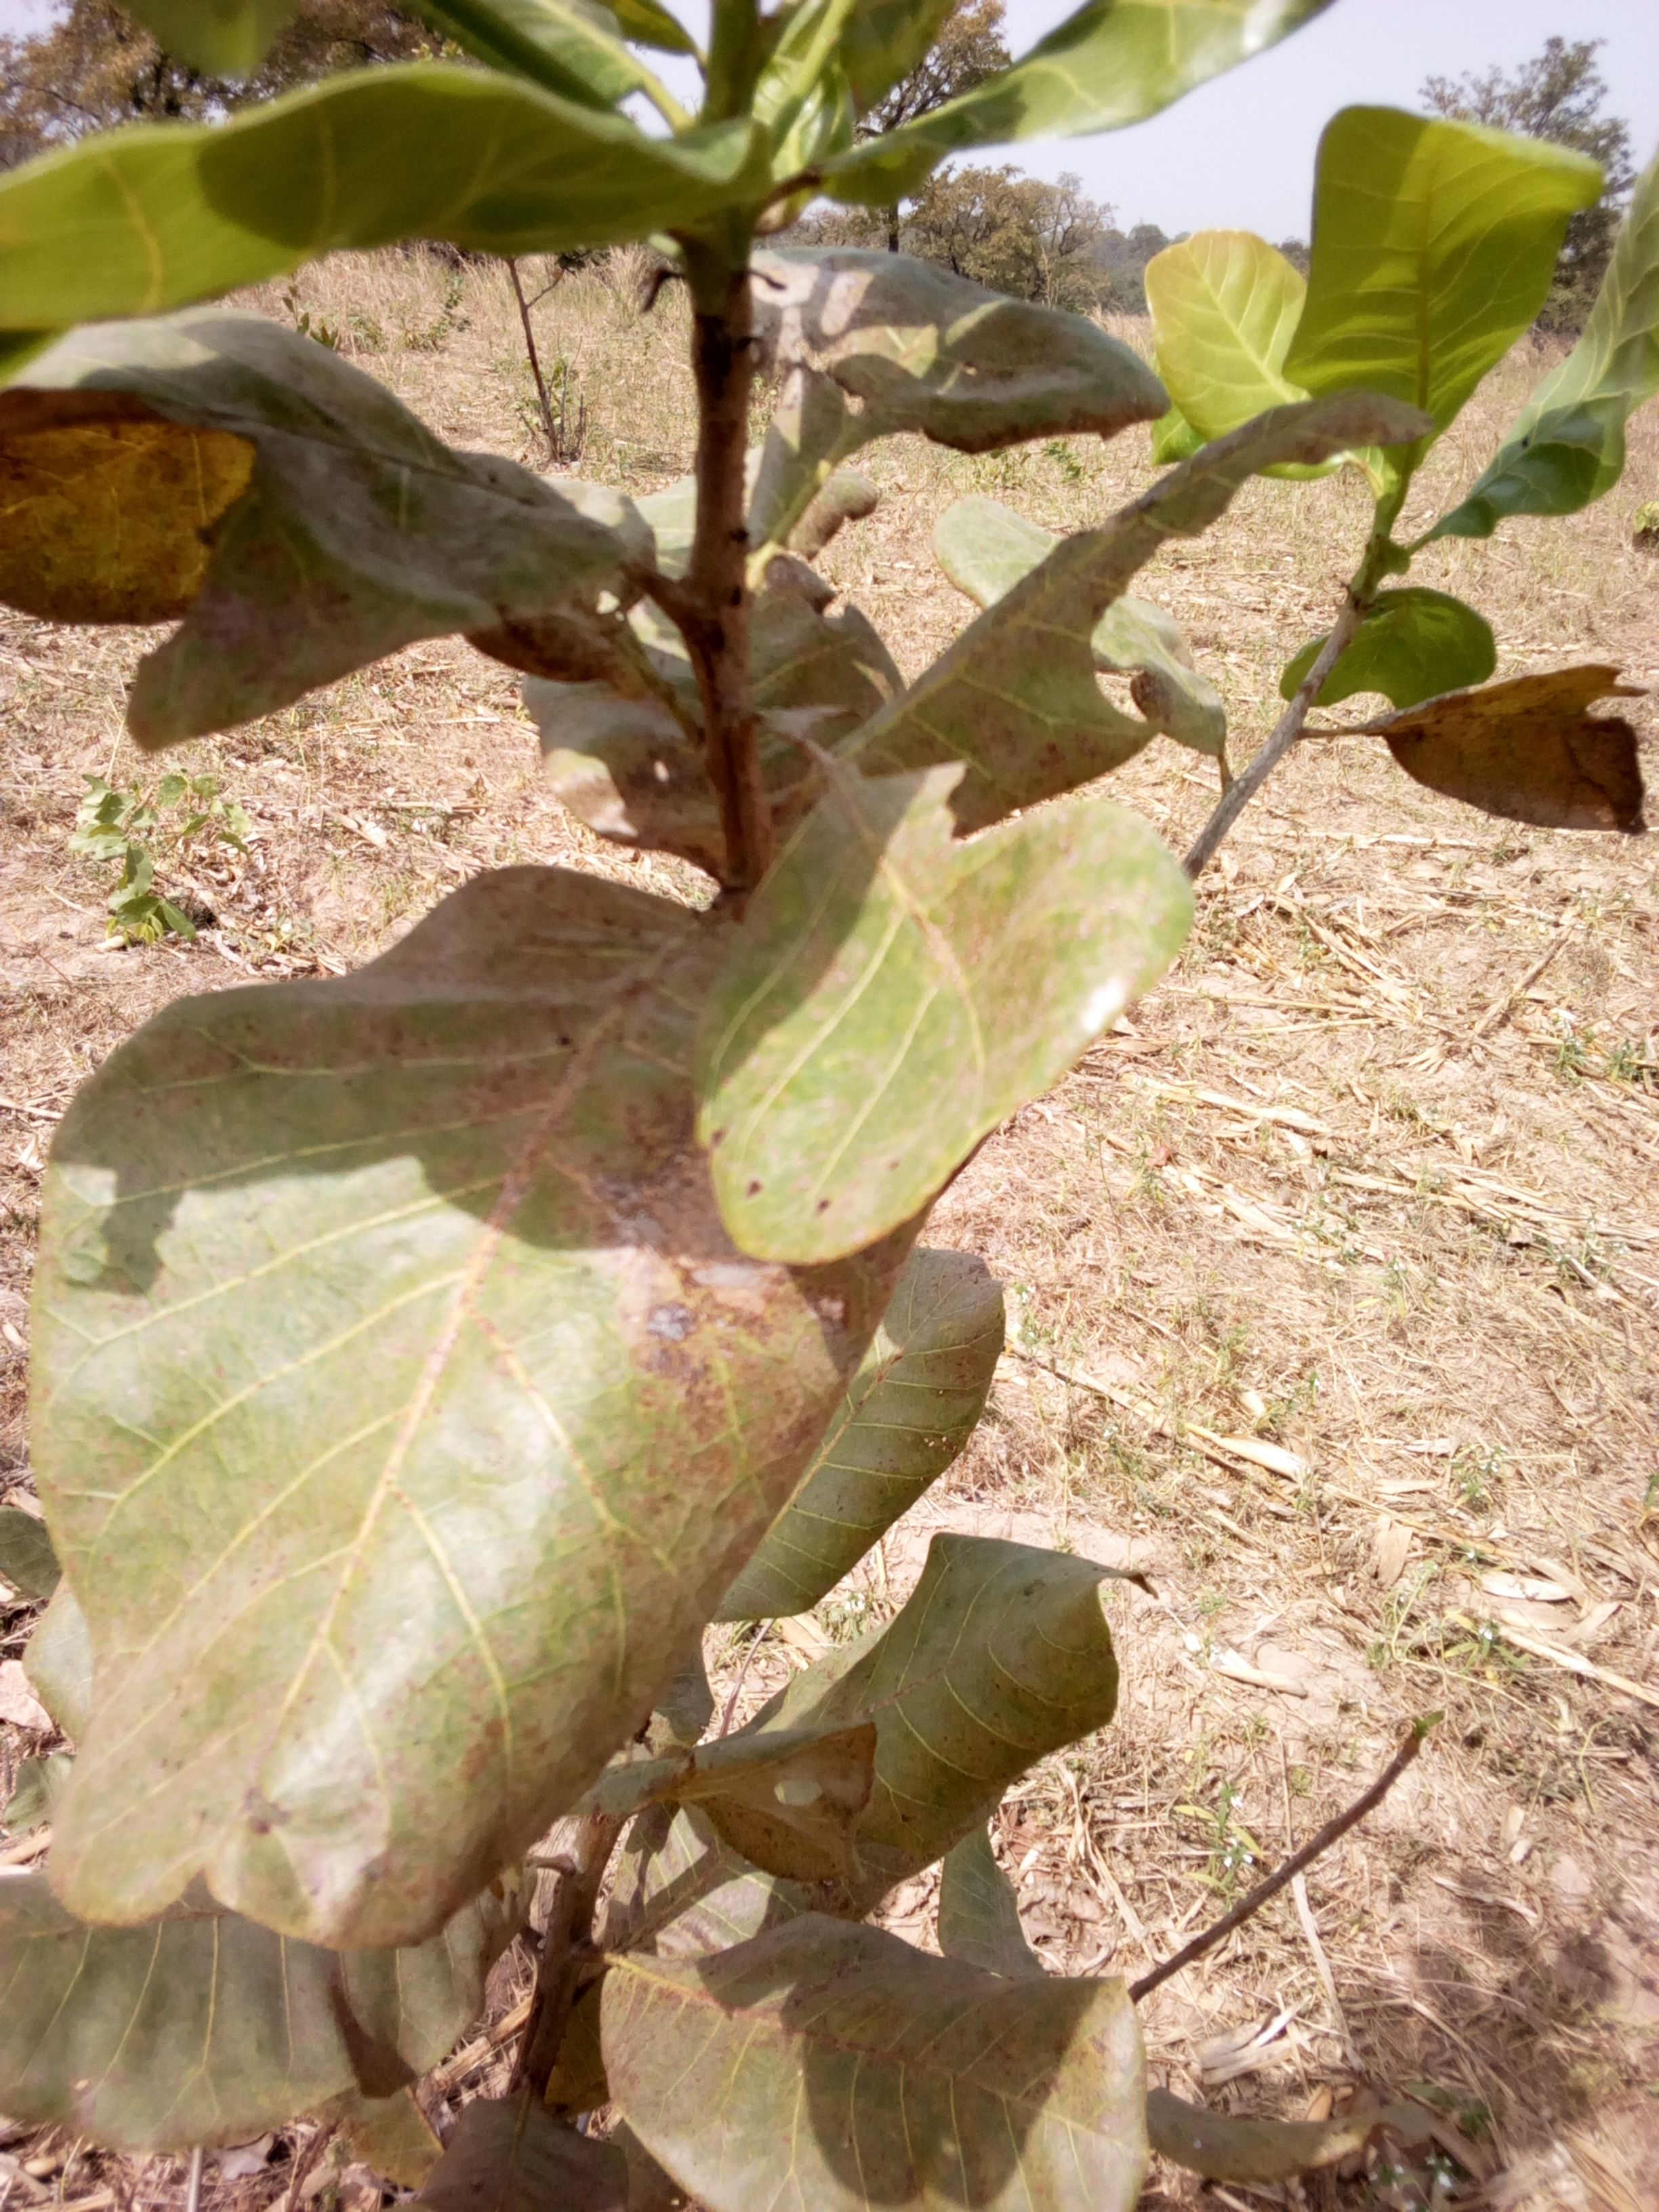Anthracnose: (26, 902, 979, 1923), (23, 317, 653, 766), (596, 1937, 1152, 2212)
